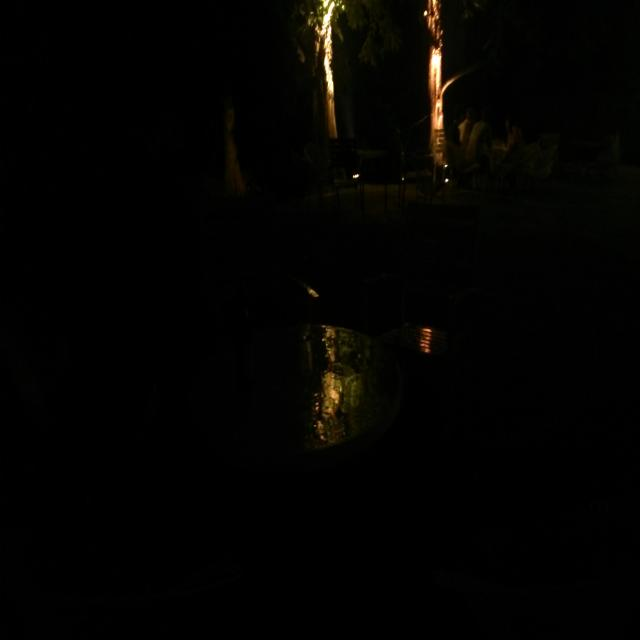Table: (220, 305, 405, 585)
chair: (86, 318, 236, 589), (404, 173, 494, 410), (218, 222, 335, 361), (326, 133, 369, 225), (399, 114, 438, 191)
